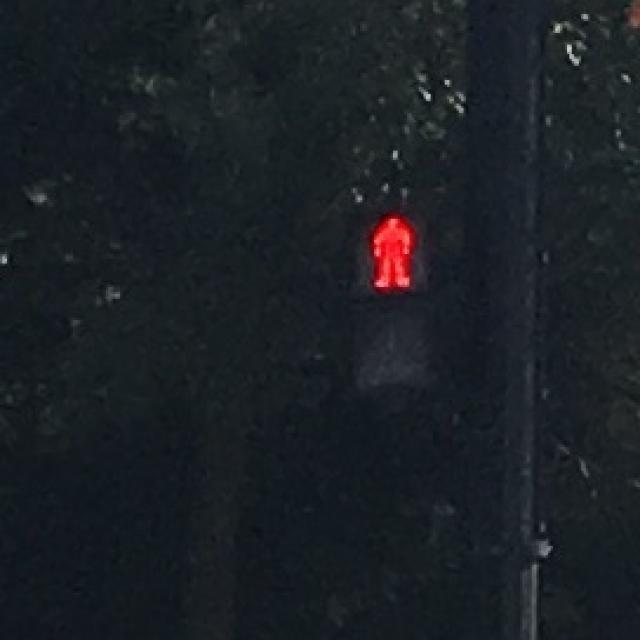red-crossing: (352, 212, 429, 290)
